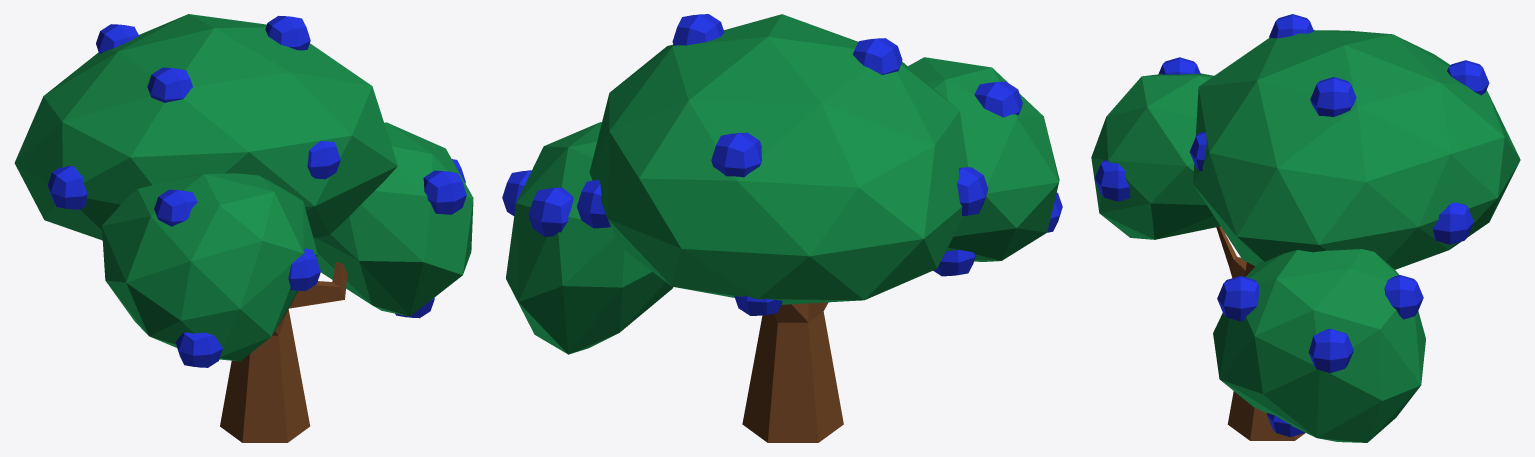
File: Busch 1.glb
3 renders of one model, left to right at view 1: azimuth 30°, elevation 25°; view 2: azimuth 150°, elevation 25°; view 3: azimuth 270°, elevation 25°, orthographic. The views are drawn at different scales.
Visible parts, largest first — view 1: Cylinder.001; view 2: Cylinder.001; view 3: Cylinder.001.
Part boxes in pixels (bbox=[...]): Cylinder.001: bbox=[14, 14, 473, 442]; Cylinder.001: bbox=[502, 14, 1062, 442]; Cylinder.001: bbox=[1091, 14, 1520, 442].
Bounding box in the file's own units: 2.83 × 2.42 × 2.53.
